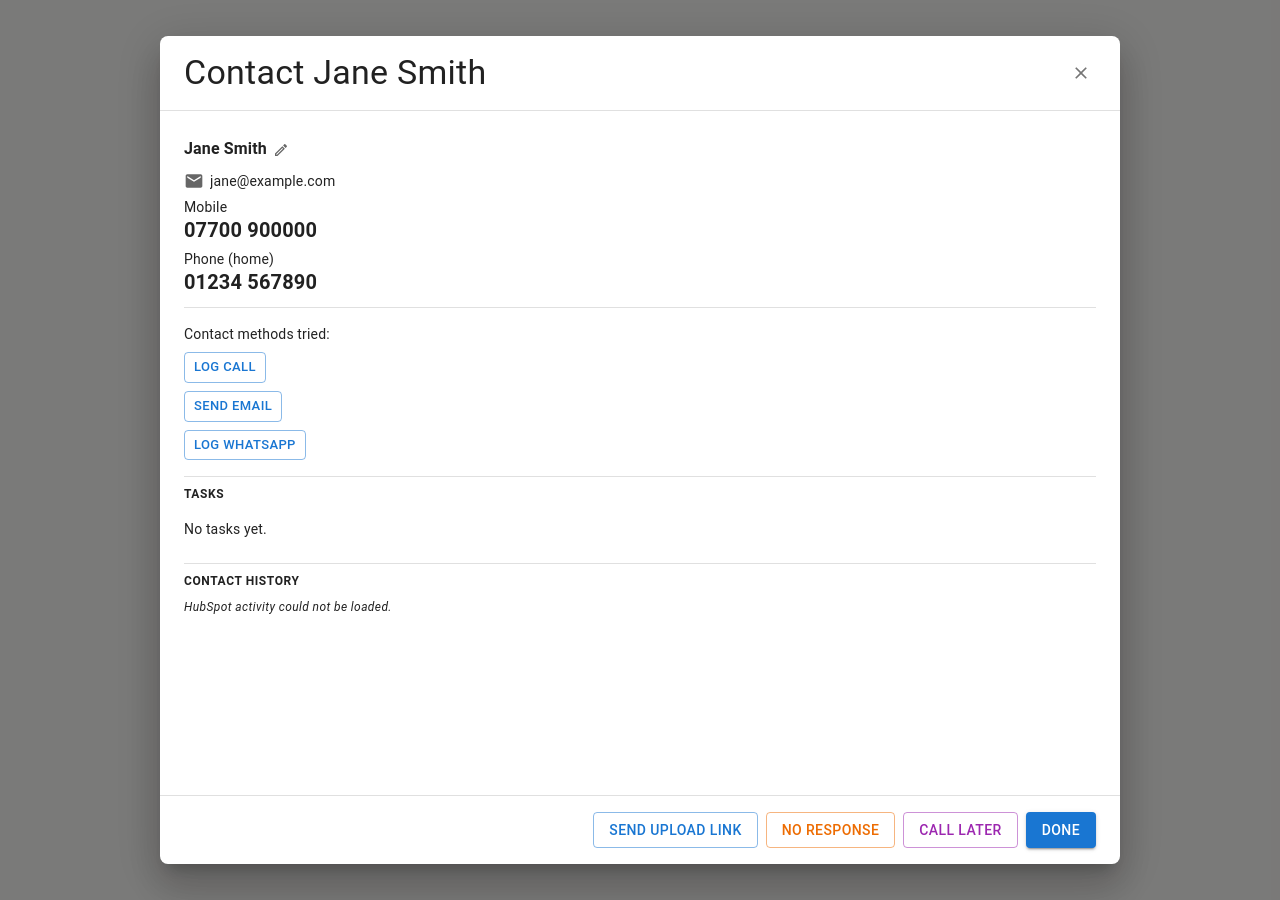
Test: ContactCustomerModal — discard guard (real behavior) › "Keep editing" dismisses the discard dialog without closing the modal
The image size is (1280, 900).
Expected: the button with test id "cc-done" is shown, [1026,812,1096,848]
Click the button with test id "contact-method-call-btn": (225, 367) [184,352,266,383]
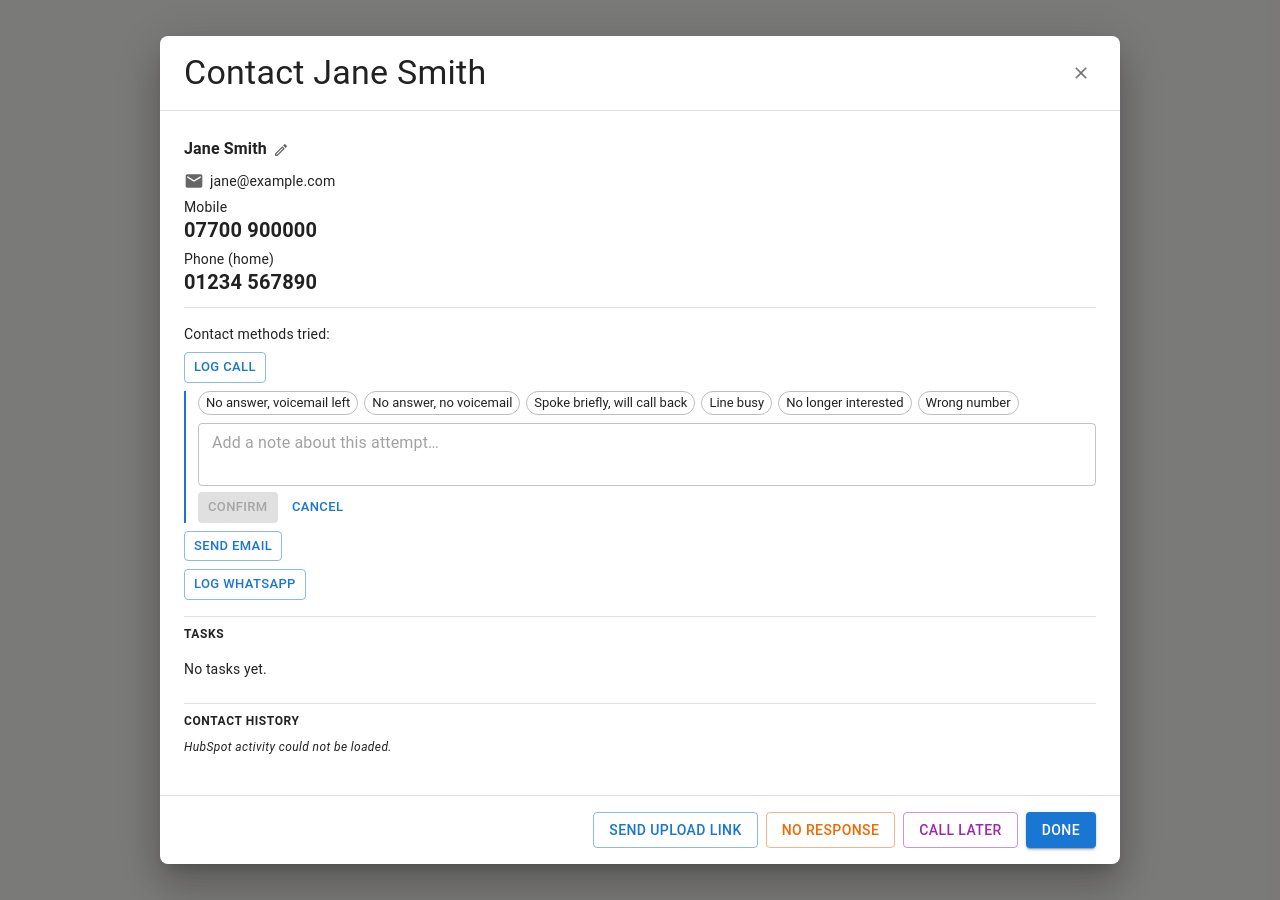
In the text box with placeholder "Add a note about this attempt…": (647, 454) [212,431,1082,477], type "Called, no answer"
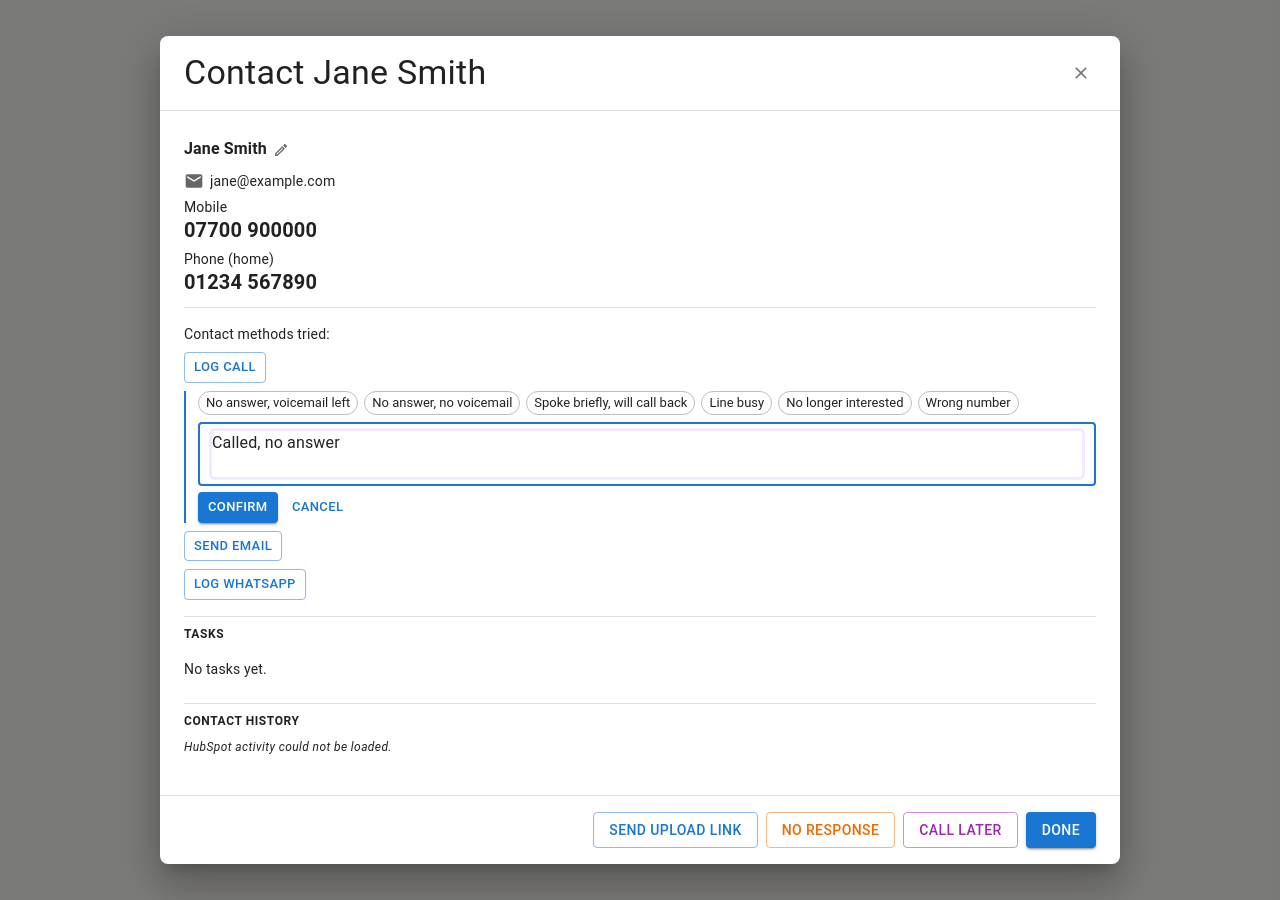
Click the button named "close": (1081, 73) [1066,58,1096,88]
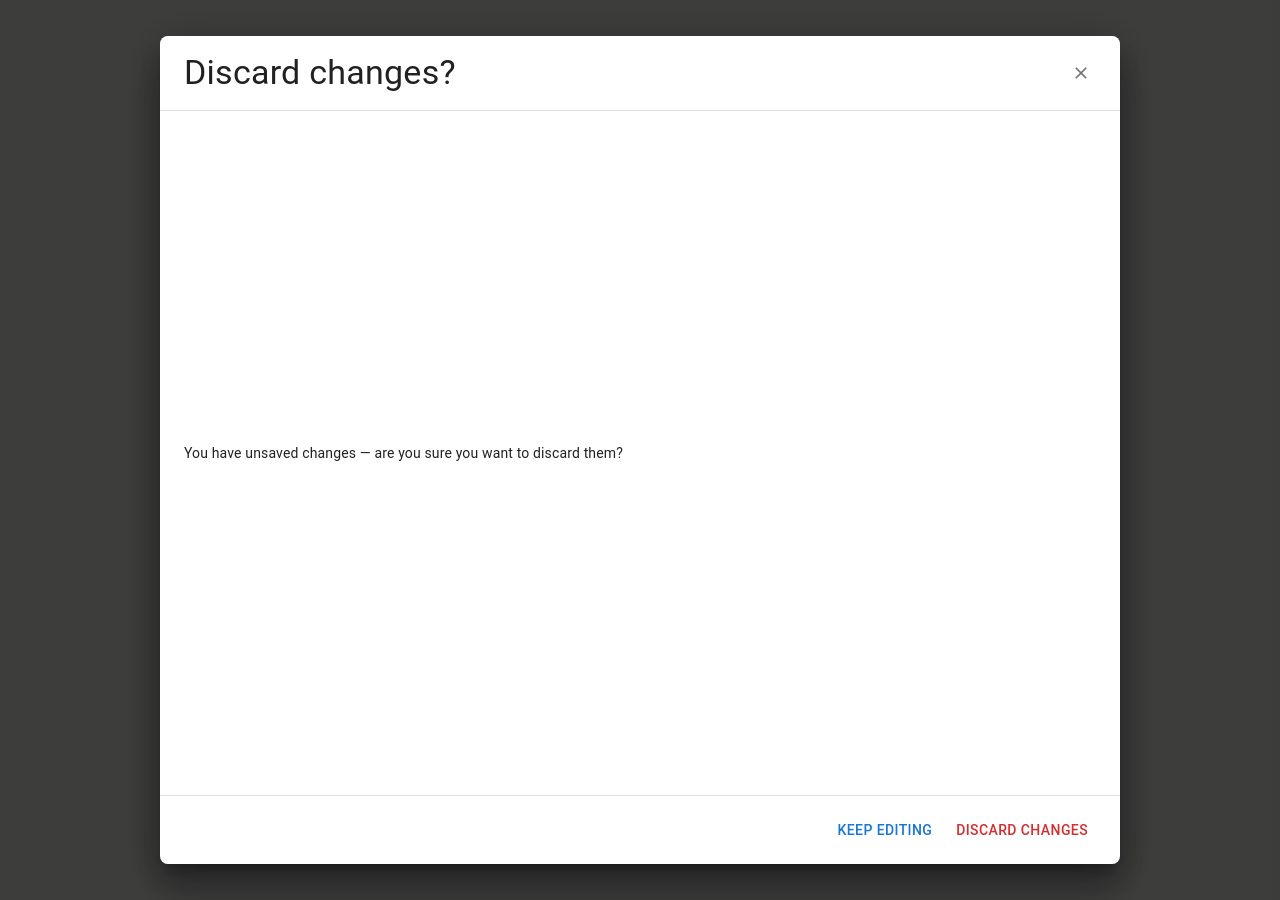
Result: the dialog "Discard changes" is shown
Click the button "Keep editing": (885, 830) [830,812,940,848]
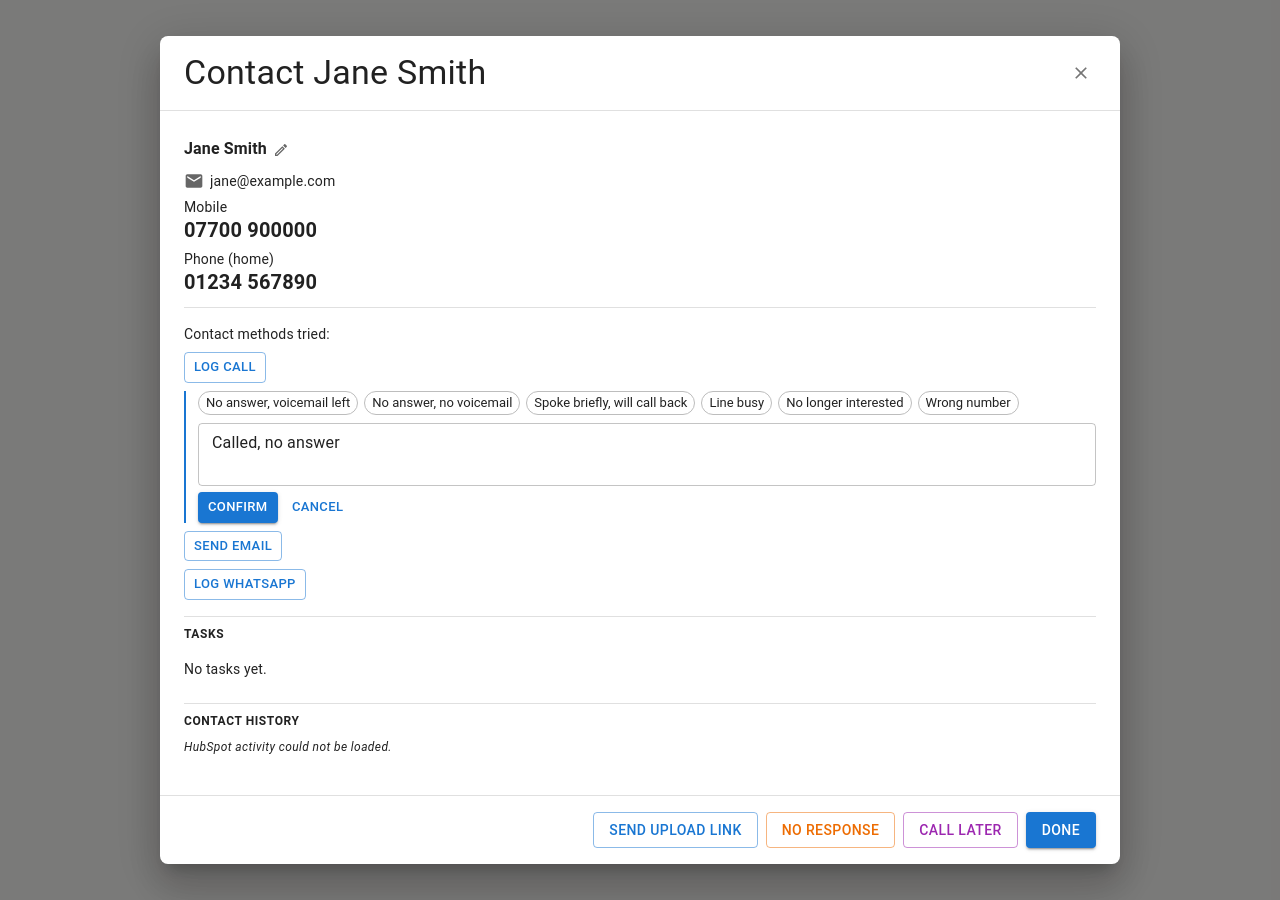
Expected: the button with test id "cc-done" is shown, [1026,812,1096,848]
Result: the heading "Discard changes" is gone
